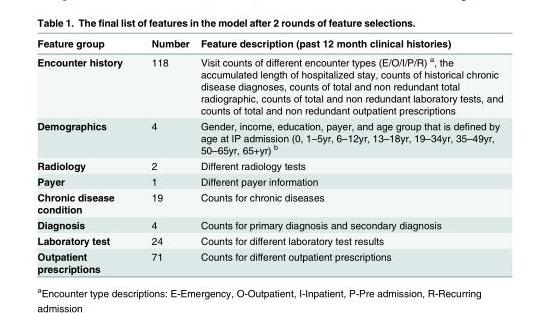table: (36, 36, 502, 274)
table column: (194, 36, 502, 274), (36, 36, 136, 274), (136, 36, 194, 274)
table column header: (36, 36, 502, 51)
table row: (36, 51, 502, 117), (36, 117, 502, 157), (36, 188, 502, 216), (36, 248, 502, 274), (36, 157, 502, 173), (36, 216, 502, 232), (36, 232, 502, 248), (36, 36, 502, 51), (36, 173, 502, 188)
